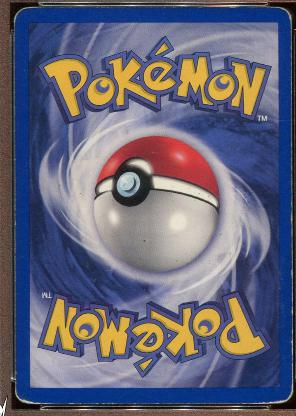Card: (9, 6, 293, 408)
Corner Wear: (288, 22, 292, 390), (14, 370, 44, 406), (261, 384, 293, 404), (11, 6, 38, 26), (277, 6, 294, 22), (234, 401, 266, 403)
Edge Wear: (92, 6, 260, 8), (66, 402, 208, 404)
